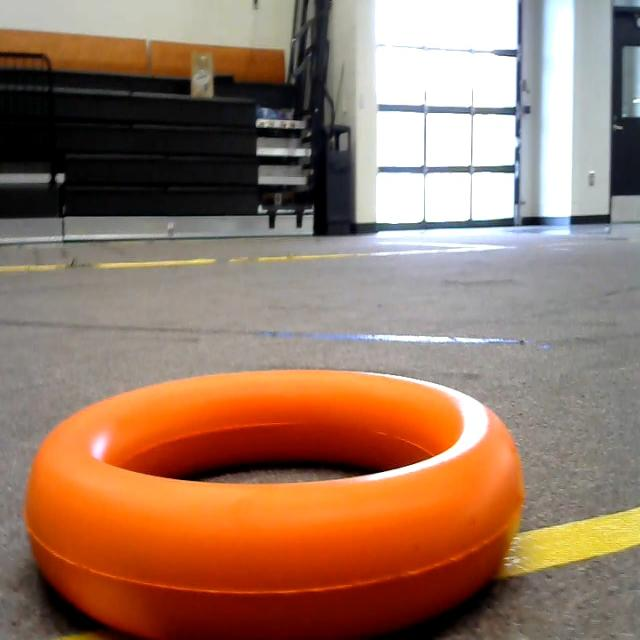note: (30, 346, 532, 640)
